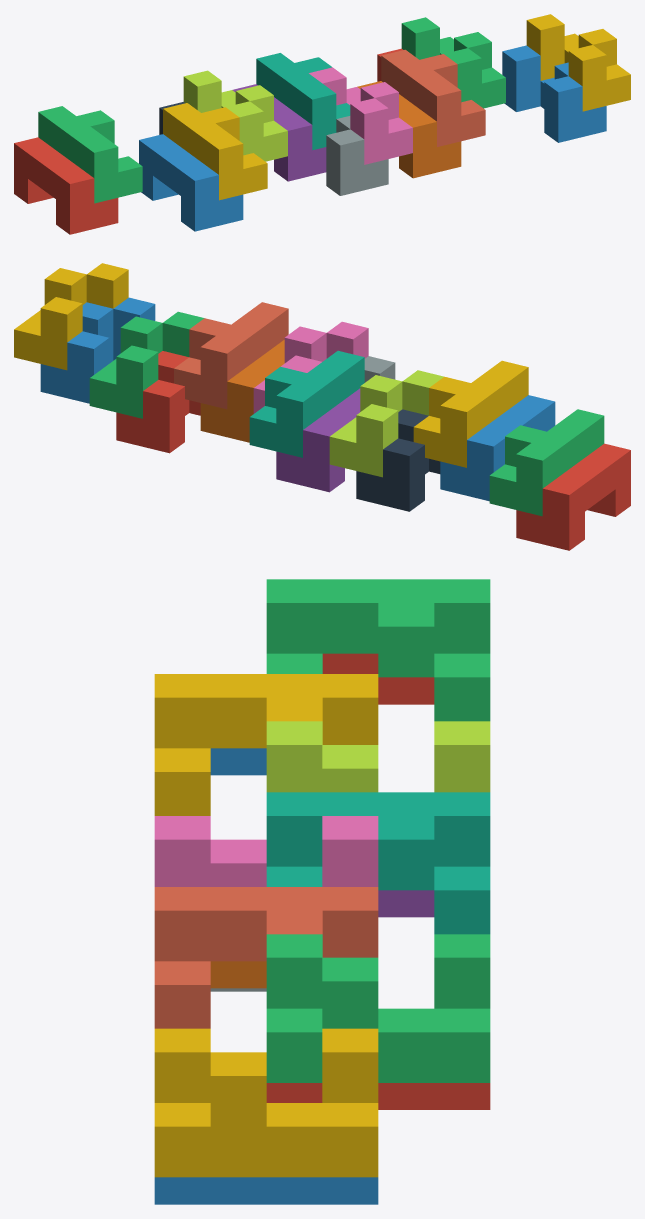
File: tiling.obj
3 renders of one model, top to bottom at view 1: azimuth 30°, elevation 25°; view 2: azimuth 150°, elevation 25°; view 3: azimuth 270°, elevation 25°, orthographic. The views are drawn at different scales.
Visible parts, largest first — view 1: copy_1_domain_1, copy_2_domain_8, copy_1_domain_2, copy_1_domain_3, copy_1_domain_4, copy_1_domain_8, copy_2_domain_6, copy_2_domain_4, copy_2_domain_7, copy_2_domain_3, copy_1_domain_7, copy_2_domain_2 (+2 smaller); view 2: copy_1_domain_1, copy_1_domain_3, copy_1_domain_7, copy_1_domain_8, copy_1_domain_4, copy_2_domain_8, copy_2_domain_7, copy_2_domain_3, copy_2_domain_6, copy_1_domain_2, copy_2_domain_1, copy_2_domain_5 (+4 smaller); view 3: copy_2_domain_8, copy_2_domain_7, copy_1_domain_3, copy_1_domain_7, copy_1_domain_4, copy_1_domain_8, copy_2_domain_3, copy_2_domain_4, copy_2_domain_6, copy_2_domain_5, copy_1_domain_1, copy_1_domain_2 (+2 smaller).
Part boxes in pixels (left/top/right/bottom): copy_1_domain_1: left=14, top=137, right=118, bottom=234; copy_2_domain_8: left=526, top=14, right=630, bottom=111; copy_1_domain_2: left=139, top=134, right=243, bottom=231; copy_1_domain_3: left=38, top=106, right=142, bottom=203; copy_1_domain_4: left=163, top=103, right=267, bottom=200; copy_1_domain_8: left=381, top=49, right=485, bottom=146; copy_2_domain_6: left=502, top=45, right=606, bottom=142; copy_2_domain_4: left=309, top=67, right=412, bottom=164; copy_2_domain_7: left=401, top=17, right=505, bottom=108; copy_2_domain_3: left=183, top=70, right=287, bottom=161; copy_1_domain_7: left=256, top=53, right=350, bottom=150; copy_2_domain_2: left=326, top=116, right=388, bottom=195; copy_1_domain_1: left=516, top=443, right=630, bottom=550; copy_1_domain_3: left=489, top=409, right=604, bottom=516; copy_1_domain_7: left=249, top=350, right=364, bottom=457; copy_1_domain_8: left=174, top=302, right=288, bottom=409; copy_1_domain_4: left=413, top=360, right=528, bottom=467; copy_2_domain_8: left=14, top=263, right=128, bottom=370; copy_2_domain_7: left=89, top=311, right=204, bottom=418; copy_2_domain_3: left=329, top=370, right=443, bottom=477; copy_2_domain_6: left=40, top=297, right=155, bottom=403; copy_1_domain_2: left=440, top=395, right=555, bottom=501; copy_2_domain_1: left=356, top=409, right=440, bottom=511; copy_2_domain_5: left=116, top=351, right=200, bottom=453; copy_2_domain_8: left=154, top=1028, right=378, bottom=1177; copy_2_domain_7: left=266, top=934, right=490, bottom=1082; copy_1_domain_3: left=266, top=579, right=490, bottom=721; copy_1_domain_7: left=266, top=792, right=490, bottom=934; copy_1_domain_4: left=154, top=674, right=378, bottom=815; copy_1_domain_8: left=154, top=887, right=378, bottom=1028; copy_2_domain_3: left=266, top=721, right=490, bottom=792; copy_2_domain_4: left=154, top=816, right=378, bottom=886; copy_2_domain_6: left=154, top=1177, right=378, bottom=1204; copy_2_domain_5: left=266, top=1083, right=490, bottom=1109; copy_1_domain_1: left=322, top=653, right=434, bottom=704; copy_1_domain_2: left=210, top=748, right=266, bottom=775.
Size of the model in its own units: 22 by 3 by 6.
